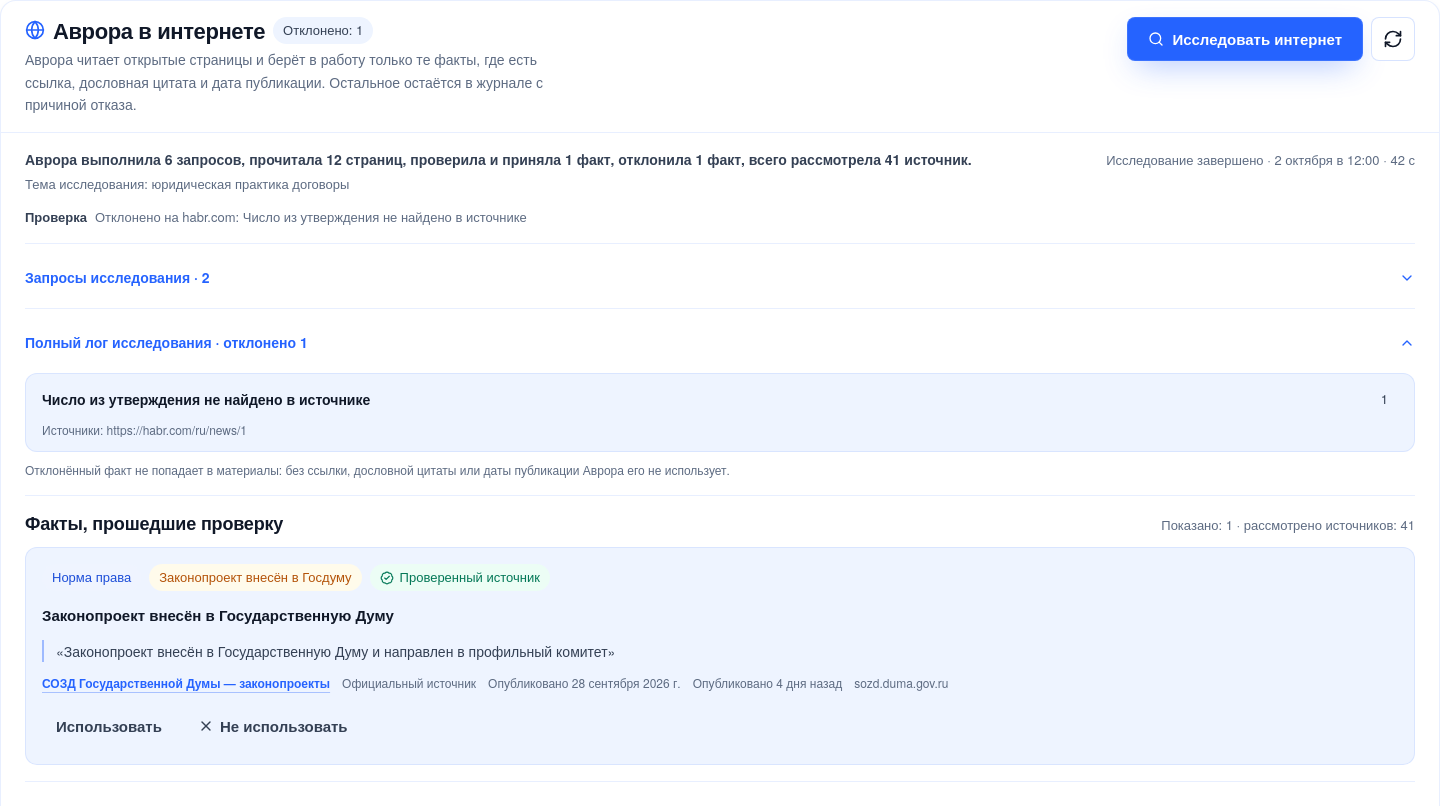
Test: removes a dismissed finding through the endpoint and keeps the rest
Expected: the text "Законопроект внесён в Государственную Думу" is shown, x1=42 y1=604 x2=394 y2=626
Click the button "Не использовать" at coordinates (273, 726), box x1=184 y1=704 x2=362 y2=748
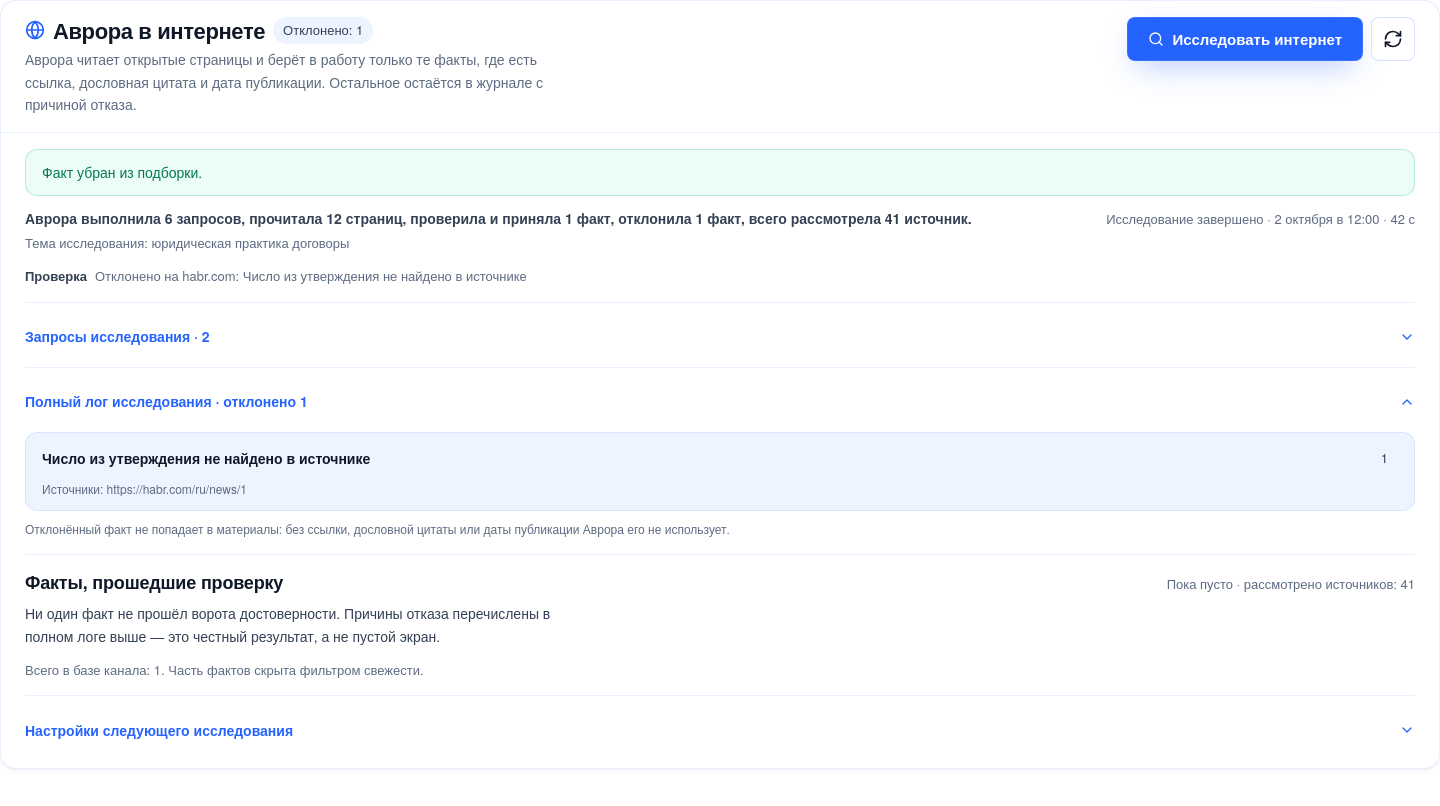
Expected: the text "Законопроект внесён в Государственную Думу" is gone
Expected: the text "Факт убран из подборки." is shown, x1=25 y1=149 x2=1415 y2=196
